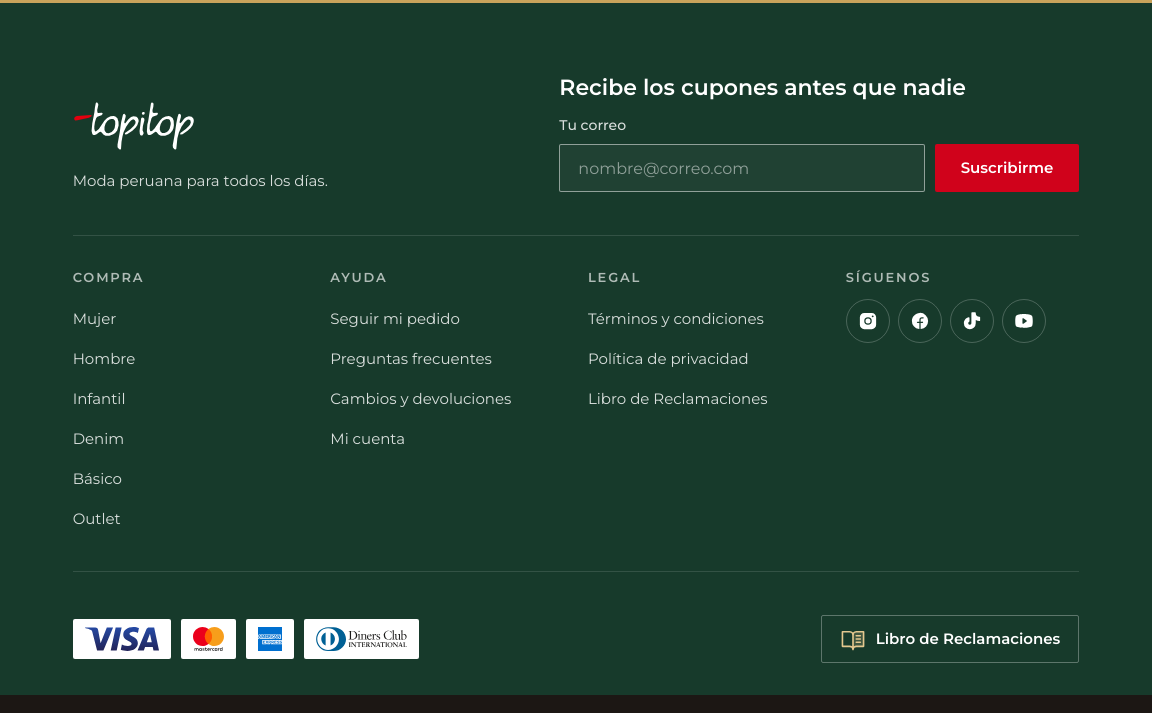
Test: SiteFooter › avisa si el navegador no deja guardar el correo
The image size is (1152, 713).
Type "luis@correo.pe" into the field labelled "Tu correo".
click(742, 168); type("luis@correo.pe")  # box x1=559 y1=144 x2=925 y2=192
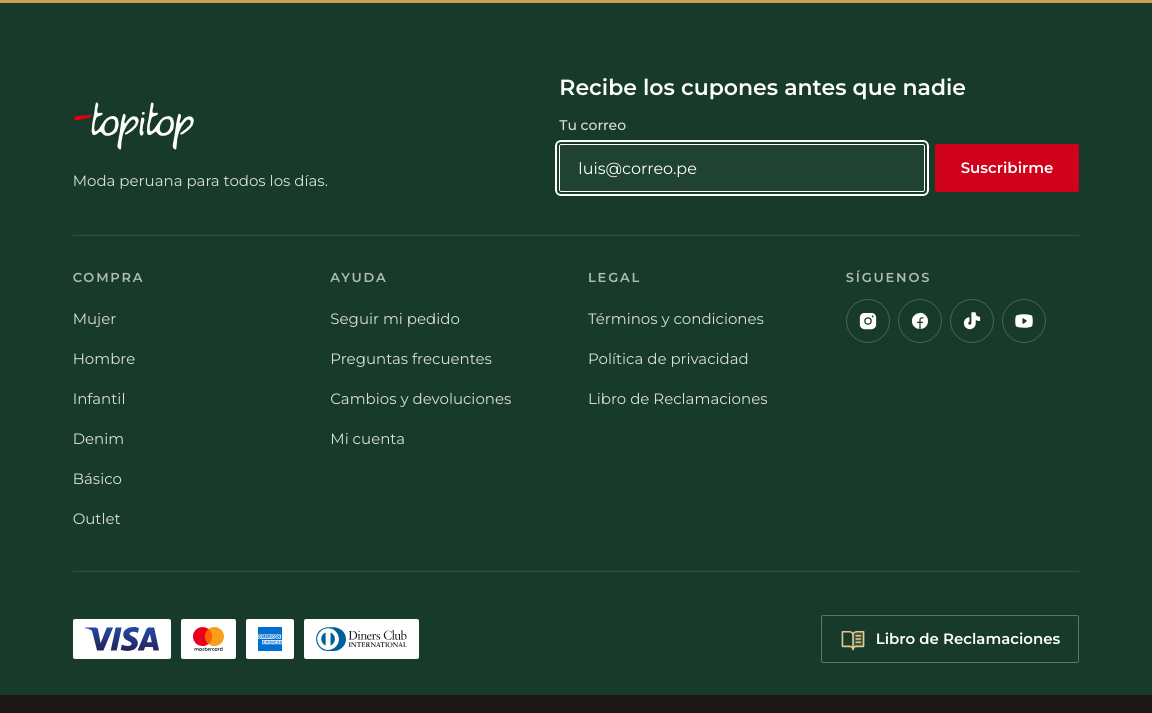
Click the button "Suscribirme".
click(1007, 168)  # box x1=935 y1=144 x2=1079 y2=192
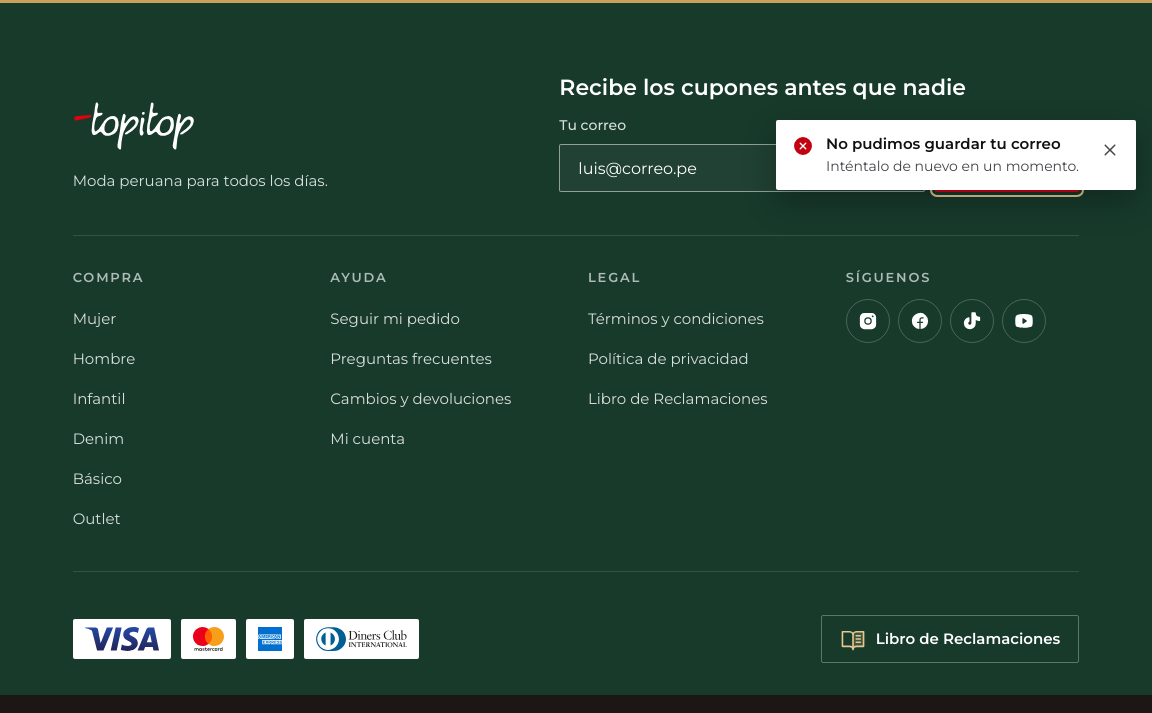
Expected: the text "No pudimos guardar tu correo" is shown, x1=826 y1=134 x2=1090 y2=154
